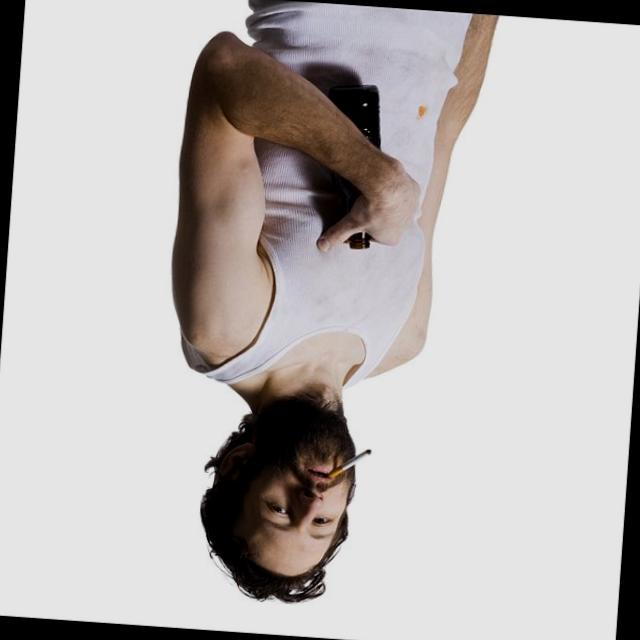cigarette: (325, 444, 375, 486)
